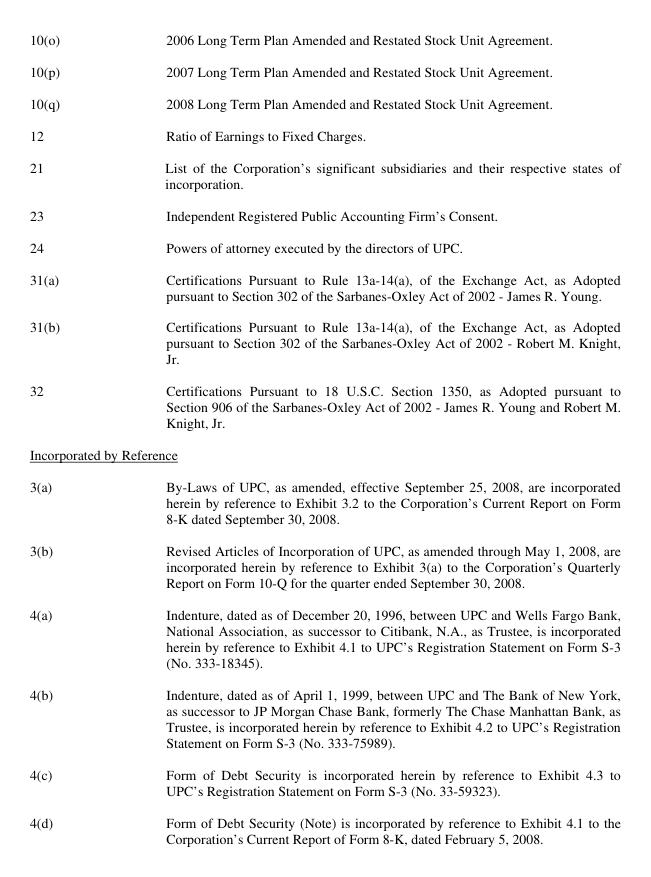table: (28, 29, 619, 846)
table column: (111, 29, 619, 846), (28, 29, 111, 846)
table projected row header: (28, 437, 619, 469)
table row: (28, 597, 619, 677), (28, 677, 619, 757), (28, 310, 619, 374), (28, 469, 619, 533), (28, 533, 619, 597), (28, 374, 619, 437), (28, 150, 619, 198), (28, 262, 619, 310), (28, 757, 619, 805), (28, 805, 619, 846), (28, 54, 619, 86), (28, 86, 619, 118), (28, 118, 619, 150), (28, 198, 619, 230), (28, 230, 619, 262), (28, 437, 619, 469), (28, 29, 619, 54)
